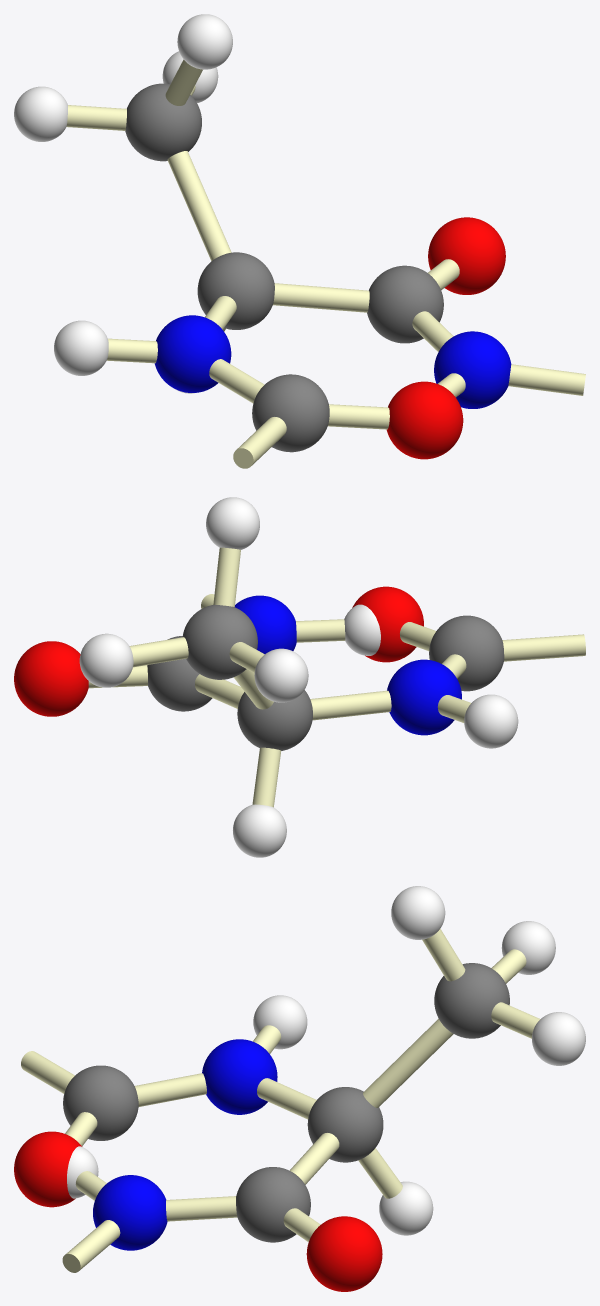
Rendered from conformation.gltf.
The picture shows the model from 3 angles, top to bottom: view 1: azimuth 30°, elevation 25°; view 2: azimuth 150°, elevation 25°; view 3: azimuth 270°, elevation 25°; orthographic projection. The views are drawn at different scales.
Parts seen in each view (by area): view 1: ?????????2, ?????????3, ?????????9, ?????????5, ?????????6, ?????????1, ?????????13, ?????????4, ?????????22, ?????????12, ?????????7, ?????????10 (+12 smaller); view 2: ?????????6, ?????????3, ?????????9, ?????????1, ?????????4, ?????????2, ?????????5, ?????????7, ?????????10, ?????????11, ?????????8, ?????????13 (+14 smaller); view 3: ?????????6, ?????????3, ?????????13, ?????????5, ?????????1, ?????????9, ?????????4, ?????????2, ?????????22, ?????????11, ?????????12, ?????????8 (+16 smaller).
Boxes of the visible parts, bbox=[...] form: ?????????2: bbox=[386, 381, 463, 459]; ?????????3: bbox=[154, 315, 231, 392]; ?????????9: bbox=[125, 83, 201, 161]; ?????????5: bbox=[367, 265, 443, 343]; ?????????6: bbox=[428, 217, 505, 294]; ?????????1: bbox=[252, 374, 329, 452]; ?????????13: bbox=[434, 331, 511, 408]; ?????????4: bbox=[197, 252, 274, 329]; ?????????22: bbox=[167, 151, 231, 260]; ?????????12: bbox=[177, 14, 232, 69]; ?????????7: bbox=[54, 320, 108, 375]; ?????????10: bbox=[14, 86, 67, 141]; ?????????6: bbox=[14, 641, 88, 716]; ?????????3: bbox=[387, 659, 461, 735]; ?????????9: bbox=[182, 604, 257, 679]; ?????????1: bbox=[429, 615, 504, 691]; ?????????4: bbox=[237, 690, 312, 750]; ?????????2: bbox=[352, 586, 423, 662]; ?????????5: bbox=[147, 636, 212, 711]; ?????????7: bbox=[464, 694, 518, 748]; ?????????10: bbox=[254, 648, 308, 702]; ?????????11: bbox=[79, 633, 133, 687]; ?????????8: bbox=[233, 804, 286, 857]; ?????????13: bbox=[235, 595, 296, 653]; ?????????6: bbox=[306, 1216, 382, 1291]; ?????????3: bbox=[202, 1039, 277, 1114]; ?????????13: bbox=[93, 1175, 167, 1250]; ?????????5: bbox=[236, 1167, 310, 1242]; ?????????1: bbox=[63, 1065, 138, 1140]; ?????????9: bbox=[434, 963, 509, 1038]; ?????????4: bbox=[307, 1087, 383, 1162]; ?????????2: bbox=[14, 1131, 81, 1207]; ?????????22: bbox=[363, 1018, 453, 1107]; ?????????11: bbox=[532, 1012, 585, 1065]; ?????????12: bbox=[391, 886, 445, 939]; ?????????8: bbox=[379, 1181, 433, 1235].
Bounding box in the file's own units: 49.42 × 36.15 × 52.85.
